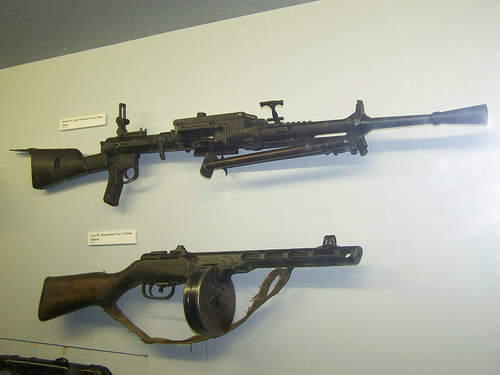rifle: (17, 99, 495, 204), (22, 239, 378, 350)
